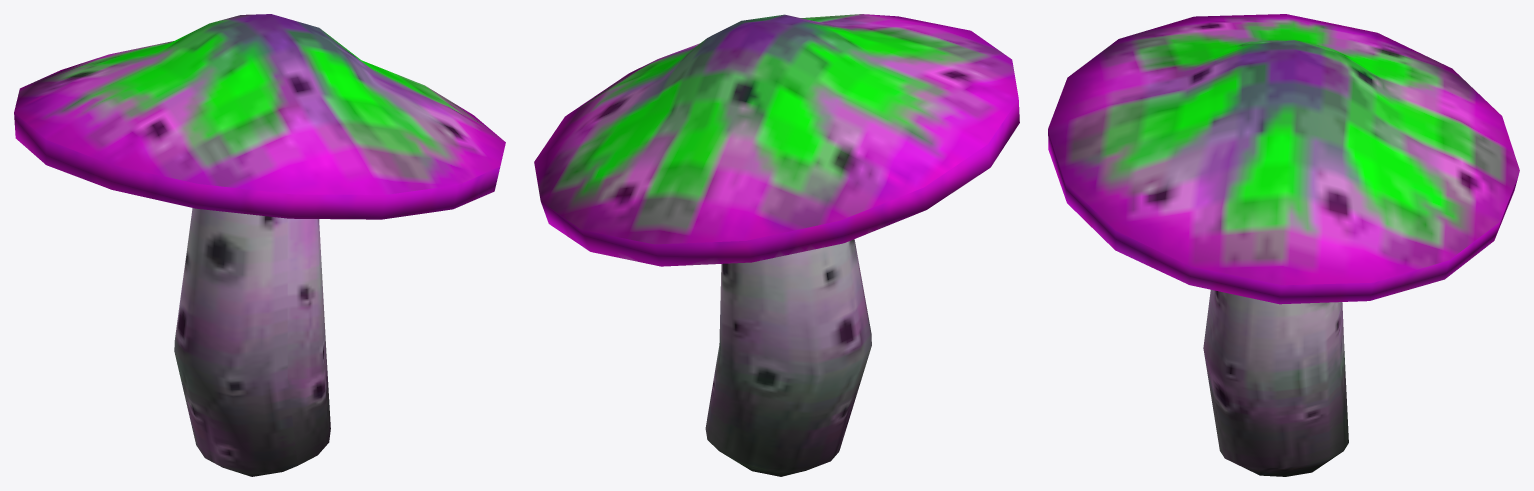
Rendered from INST_TROLLHOLE_SHROOMPOISON.fbx.
3 views of the same model, side by side, from view 1: azimuth 30°, elevation 25°; view 2: azimuth 150°, elevation 25°; view 3: azimuth 270°, elevation 25° (orthographic). The views are drawn at different scales.
Visible parts, largest first — view 1: INST_TROLLHOLE_SHROOMPOISON; view 2: INST_TROLLHOLE_SHROOMPOISON; view 3: INST_TROLLHOLE_SHROOMPOISON.
Boxes of the visible parts, x1,y1,x2,y2 form: INST_TROLLHOLE_SHROOMPOISON: [14, 14, 505, 476]; INST_TROLLHOLE_SHROOMPOISON: [534, 14, 1019, 476]; INST_TROLLHOLE_SHROOMPOISON: [1048, 14, 1519, 476].
Size of the model in its own units: 18728 by 18488 by 18852.
Materials: 1 (1 with a texture image).
